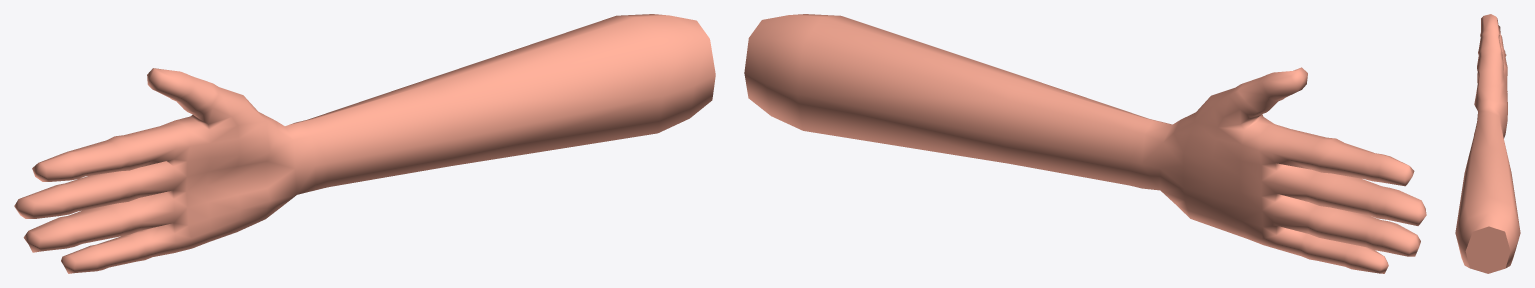
The model's file is hand.FBX.
3 views of the same model, side by side, from view 1: azimuth 30°, elevation 25°; view 2: azimuth 150°, elevation 25°; view 3: azimuth 270°, elevation 25° (orthographic). The views are drawn at different scales.
Visible parts, largest first — view 1: lowPoly; view 2: lowPoly; view 3: lowPoly.
Part boxes in pixels (bbox=[...]): lowPoly: bbox=[14, 14, 715, 273]; lowPoly: bbox=[744, 14, 1426, 273]; lowPoly: bbox=[1455, 14, 1520, 273].
Bounding box in the file's own units: 79.89 × 20.92 × 10.92.
